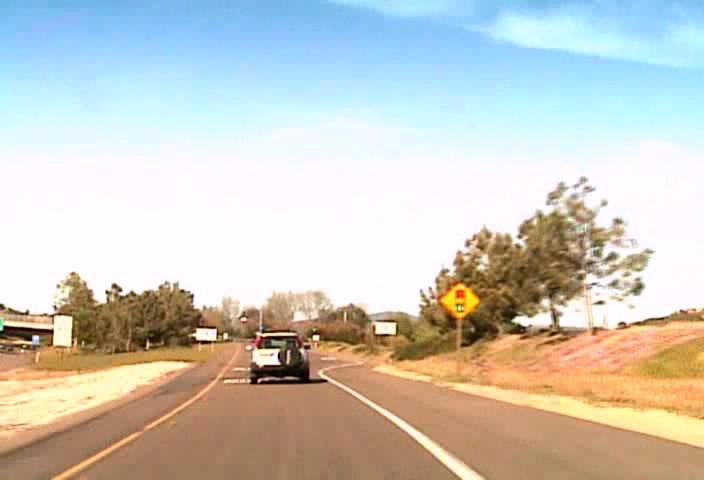signalAhead: (437, 281, 480, 320)
